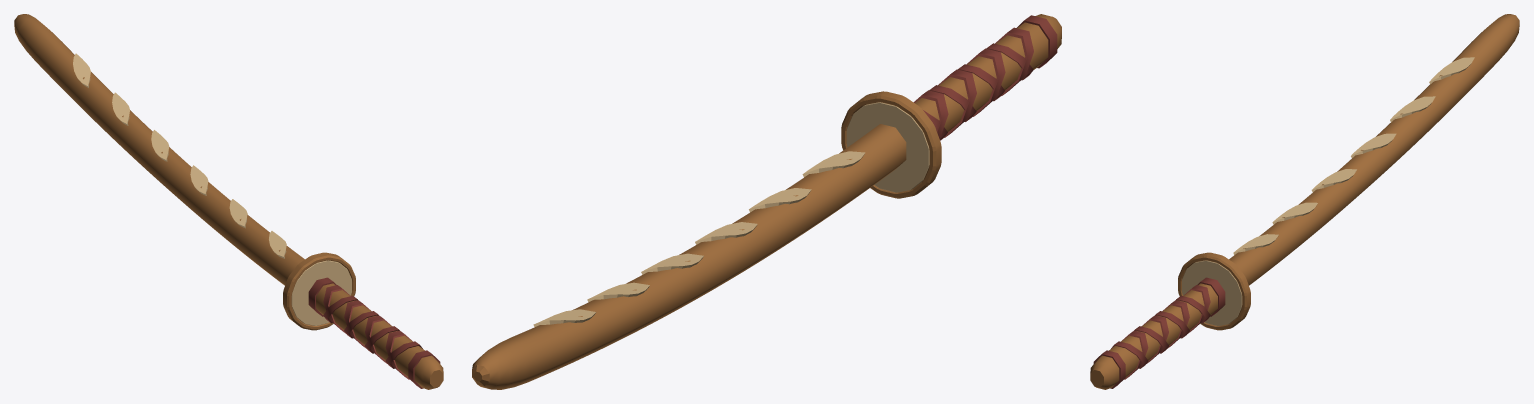
File: w_katana@katana_baguette.glb
3 views of the same model, side by side, from view 1: azimuth 30°, elevation 25°; view 2: azimuth 150°, elevation 25°; view 3: azimuth 330°, elevation 25° (orthographic). The views are drawn at different scales.
Visible parts, largest first — view 1: kat_blade_wzA, kat_tsuka_wzA, kat_trims_wzN, kat_blade_wzN, kat_guard_wzN, kat_guard_wzN.001; view 2: kat_blade_wzA, kat_trims_wzN, kat_blade_wzN, kat_tsuka_wzA, kat_guard_wzN, kat_guard_wzN.001; view 3: kat_blade_wzA, kat_tsuka_wzA, kat_trims_wzN, kat_blade_wzN, kat_guard_wzN, kat_guard_wzN.001.
Part boxes in pixels (x1,y1,x2,y2): kat_blade_wzA: (14, 14, 304, 285); kat_tsuka_wzA: (316, 283, 443, 389); kat_trims_wzN: (308, 277, 440, 388); kat_blade_wzN: (73, 53, 286, 258); kat_guard_wzN: (291, 260, 351, 325); kat_guard_wzN.001: (283, 252, 355, 330); kat_blade_wzA: (472, 124, 906, 389); kat_trims_wzN: (913, 15, 1057, 140); kat_blade_wzN: (533, 151, 865, 326); kat_tsuka_wzA: (915, 14, 1061, 131); kat_guard_wzN: (846, 102, 929, 192); kat_guard_wzN.001: (841, 91, 941, 198); kat_blade_wzA: (1229, 14, 1519, 285); kat_tsuka_wzA: (1090, 283, 1217, 389); kat_trims_wzN: (1093, 277, 1225, 388); kat_blade_wzN: (1233, 57, 1474, 254); kat_guard_wzN: (1182, 260, 1242, 325); kat_guard_wzN.001: (1178, 252, 1250, 330).
Size of the model in its own units: 0.0922 by 0.1237 by 0.9667.
